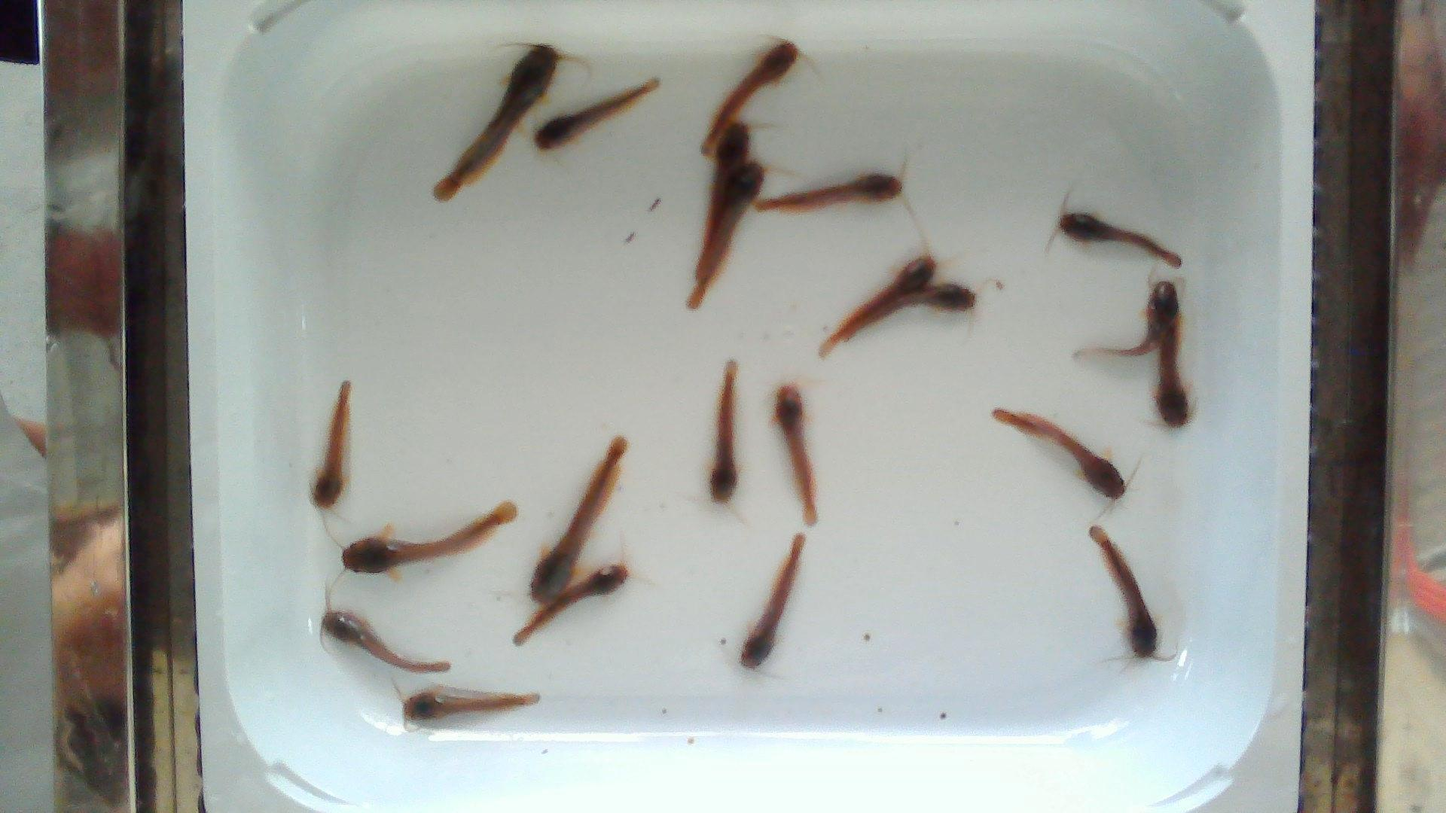lele: (433, 45, 560, 199), (531, 436, 627, 603), (343, 502, 517, 573), (992, 410, 1124, 498), (821, 258, 936, 359), (703, 42, 801, 159), (688, 159, 763, 308), (836, 283, 978, 348), (514, 564, 628, 643), (1090, 526, 1157, 658), (535, 78, 659, 149), (741, 533, 804, 668), (1069, 280, 1178, 356), (322, 610, 450, 673), (696, 121, 748, 276), (1058, 212, 1182, 268), (774, 385, 816, 525), (755, 173, 902, 211), (404, 684, 540, 722), (312, 382, 349, 508), (1152, 309, 1188, 431), (709, 360, 737, 503)
